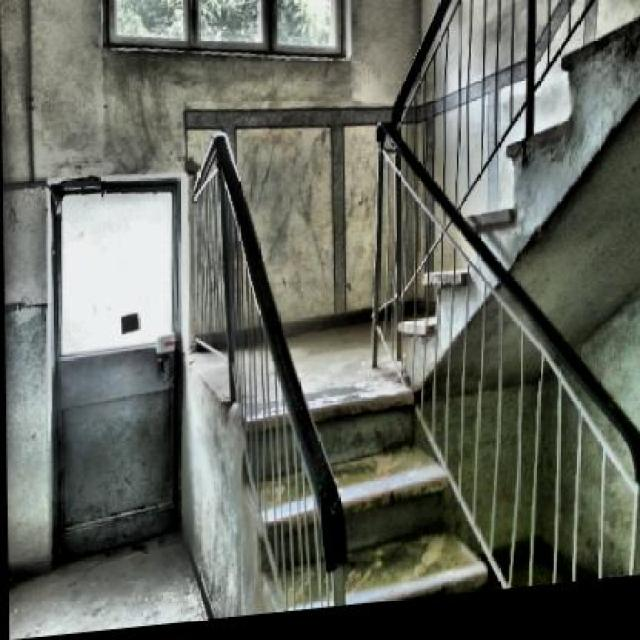stair: (246, 363, 494, 620)
